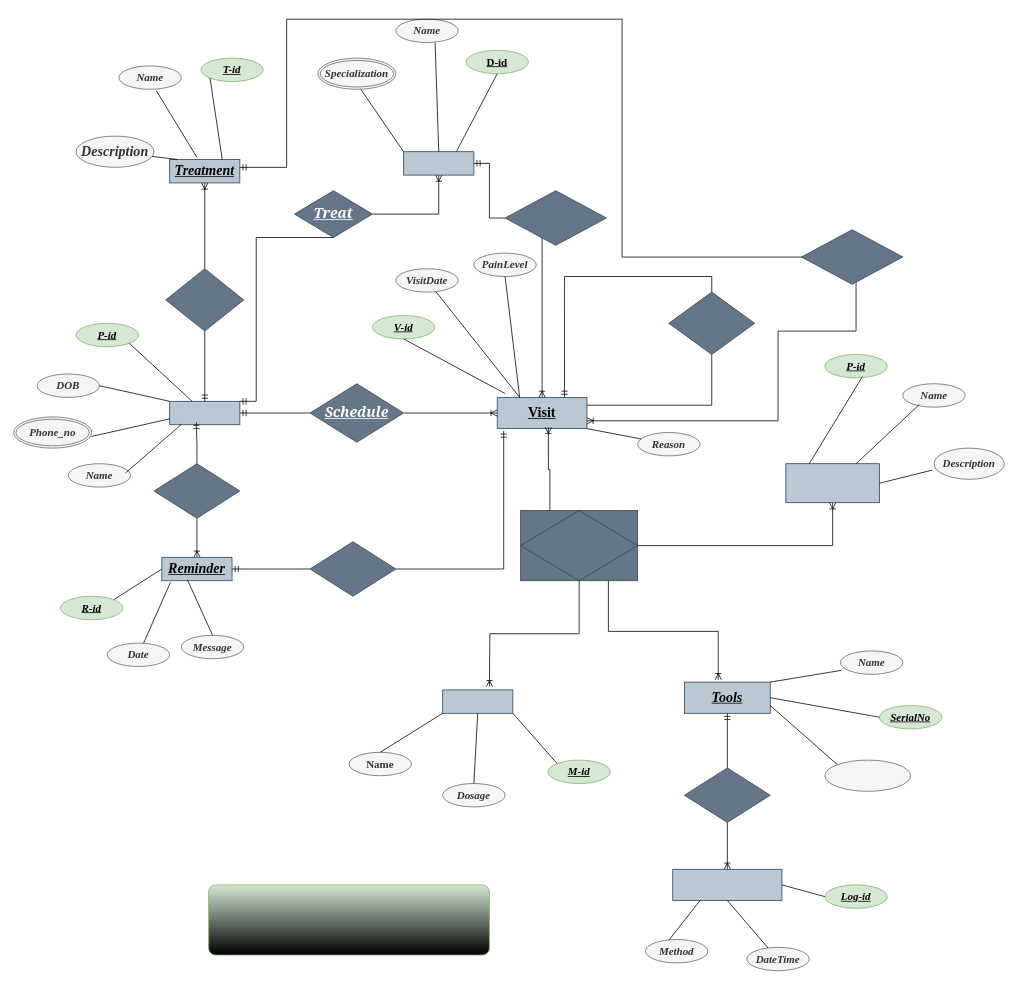
Image size: 1018x990. Some labels were removed from this diagram. The centre of each missing label's shape, as x and y in pixels:
Appointment: point 579,545
Conduct: point 555,217
Dental Clinic Database: point 348,919
Dentist: point 438,163
End_of_life: point 867,775
FollowUp: point 711,323
Include: point 852,256
Medication: point 477,701
Patient: point 204,413
Procedure: point 832,483
Receive: point 196,490
Sterilization_log: point 727,885
Take: point 204,299
Track: point 727,795
Trigger: point 352,568
